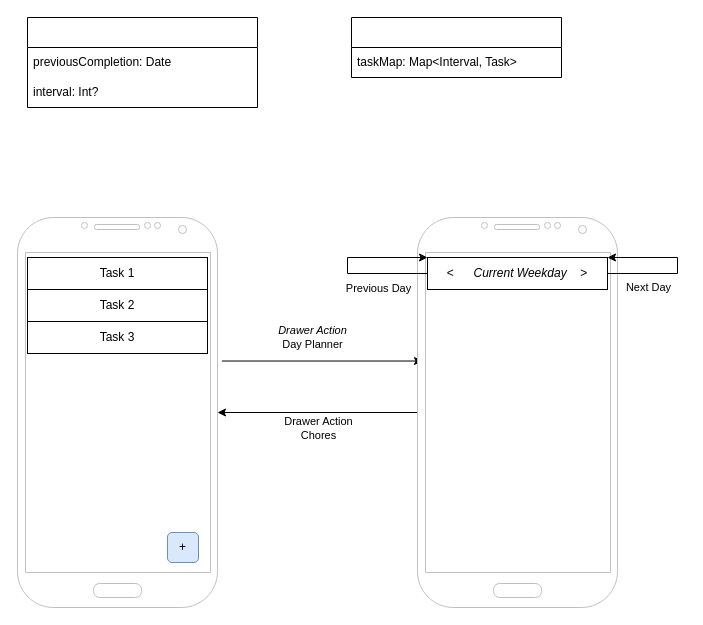
Image size: 703x625. Some labels were removed from this diagram. The box of each missing label's shape, as (x1, y1, x2, y2) in pixels:
Day: (350, 16, 562, 78)
Task: (26, 16, 258, 108)
